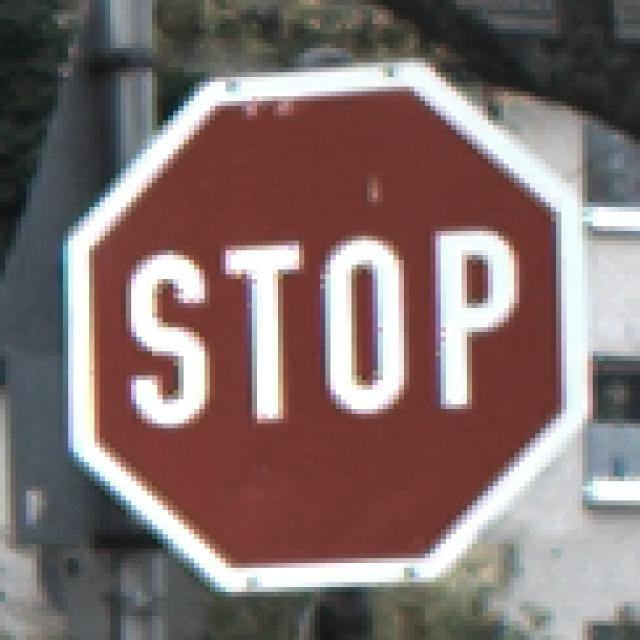STOP: (59, 59, 589, 588)
